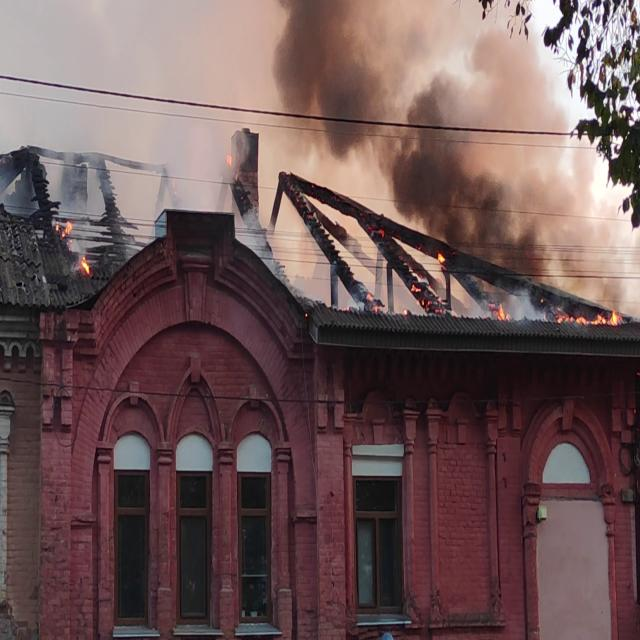smoke: (395, 108, 488, 233)
